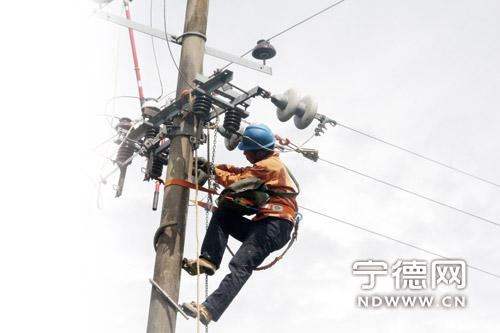boots: (181, 300, 212, 325), (182, 256, 217, 275)
gloves: (181, 300, 212, 325), (191, 157, 215, 185), (193, 156, 215, 174)
hard-hat: (238, 122, 276, 150)
person: (180, 122, 299, 326)
